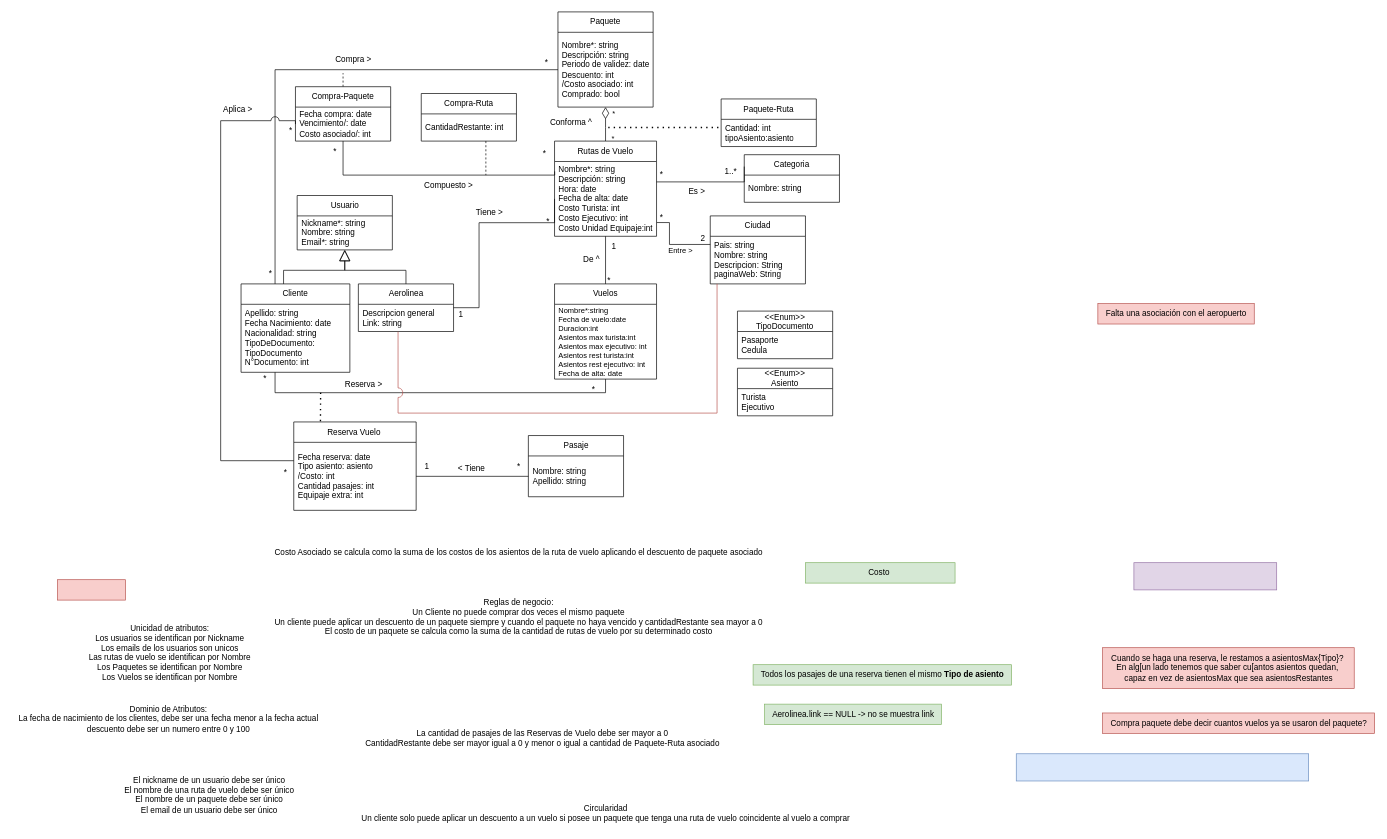
The diagram is 1387 pixels wide and 839 high, and some of its shapes have lost their labels. Each missing label, with the centre of its shape:
Agragar composition / aggregation (ex. Vuelos y Rutas de vuelo): [1205,576]
Puede haber un pasaje de una persona que no esté registrada en la página? zi: [1162,767]
Restricciones: [91,589]
